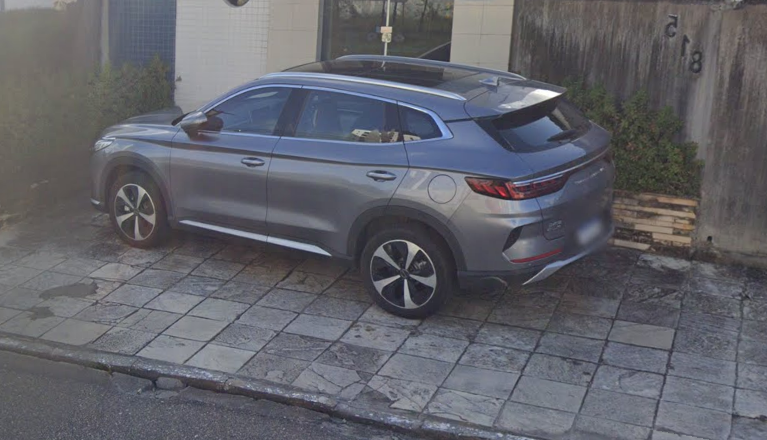car: (84, 52, 622, 320)
